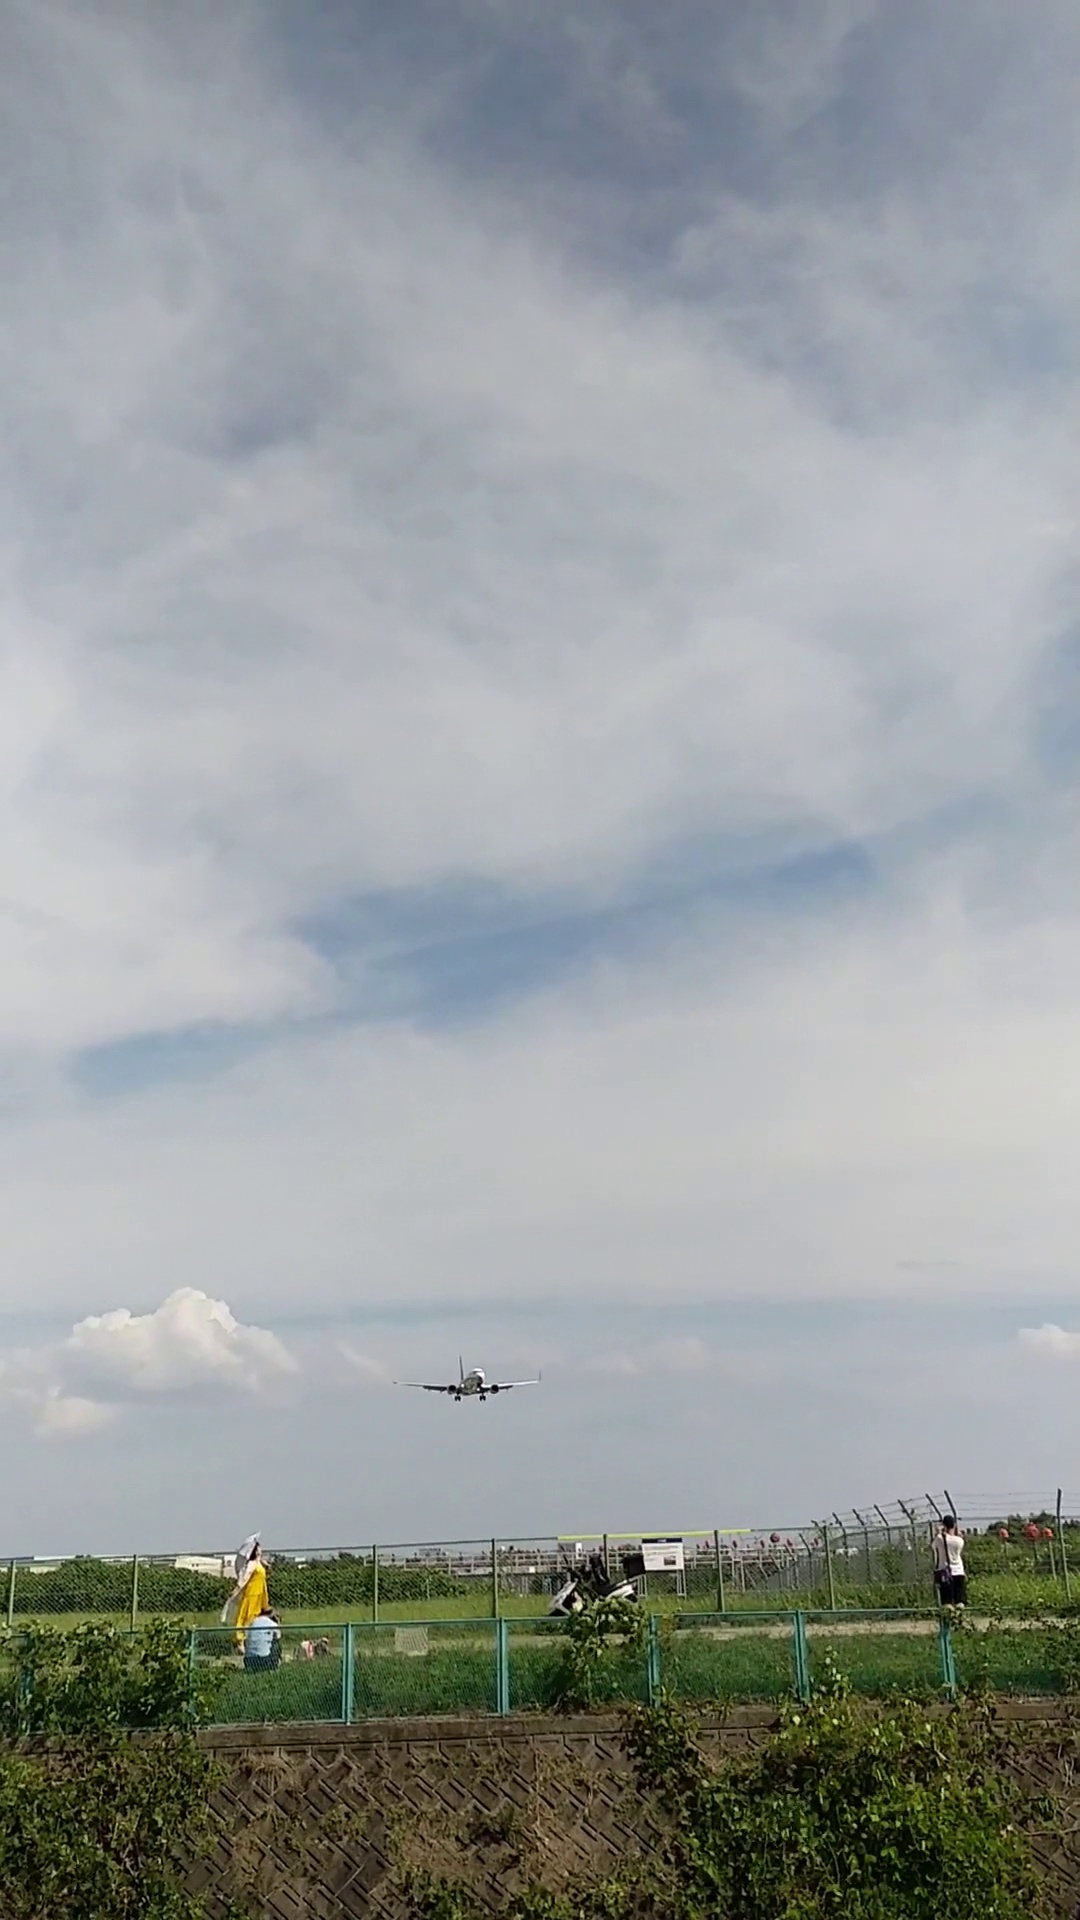plane: (392, 1356, 541, 1402)
